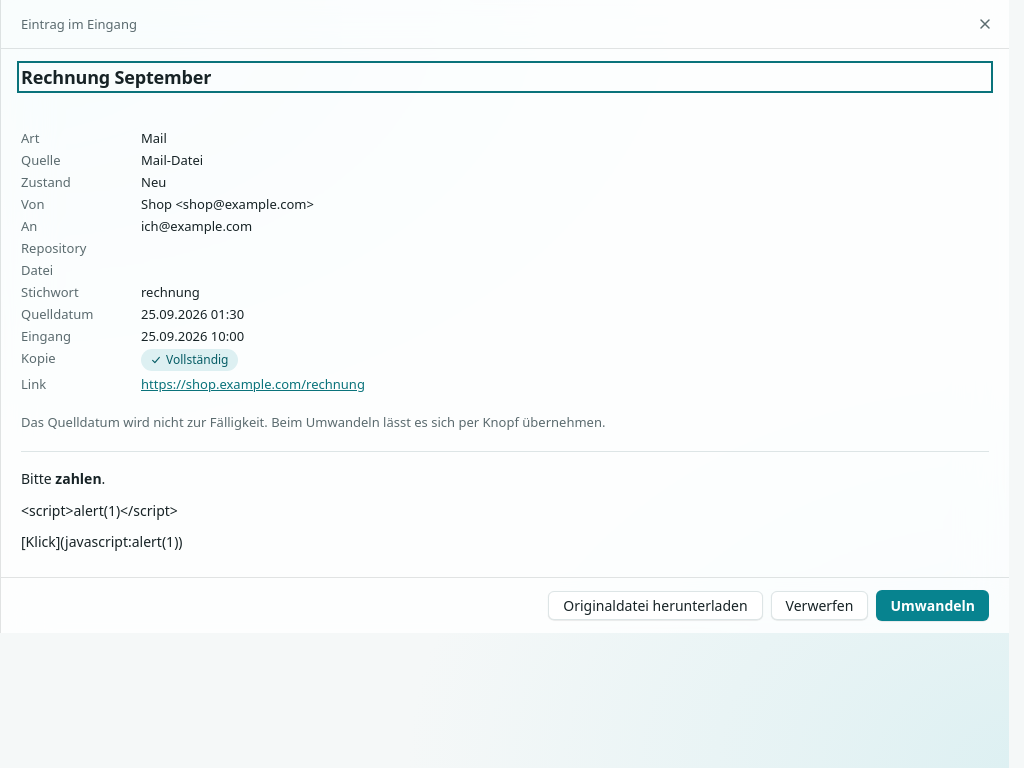
it: inbox panel › converts, discards and restores
Expected: the heading "Rechnung September" is shown, [21,65,211,89]
Click the button "Verwerfen". click: click(820, 606)
box: [771,591,868,620]
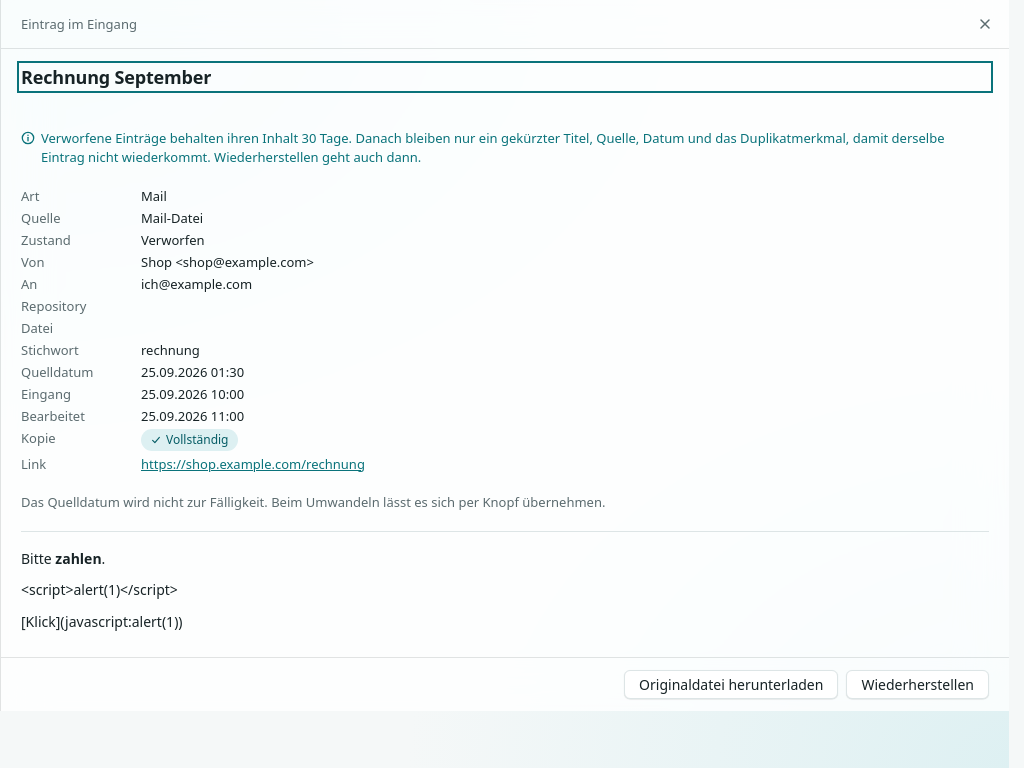
Expected: the button "Wiederherstellen" is shown, [846,670,989,699]
